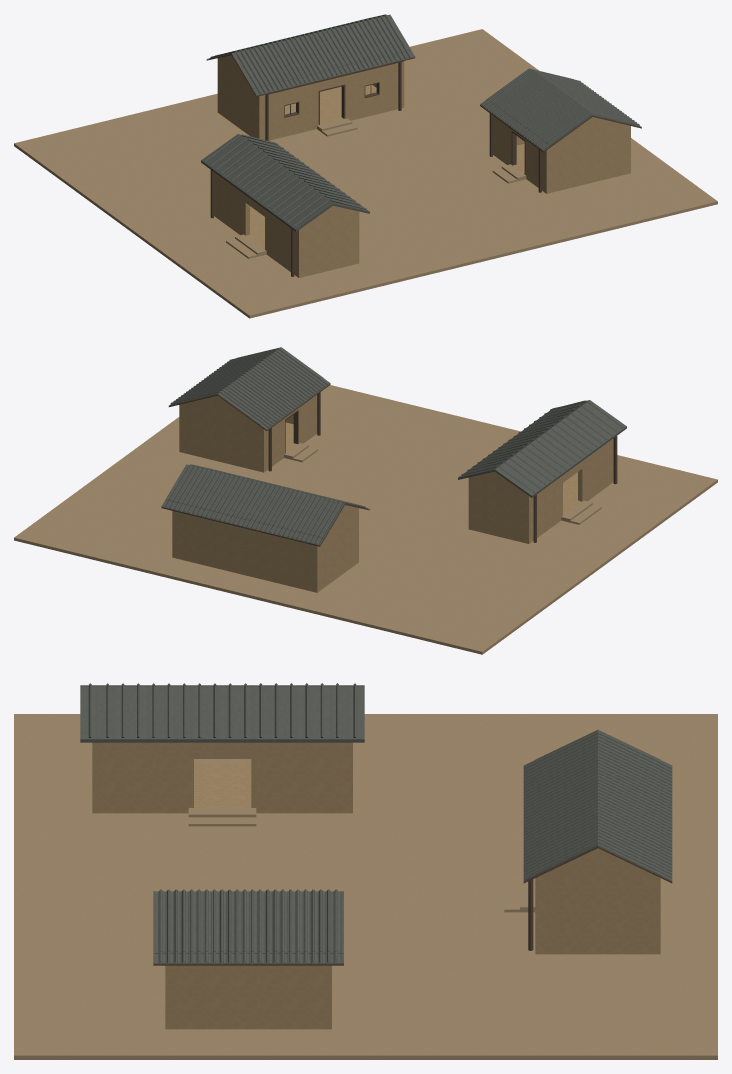
File: z09-civic-B-LOD1.glb
3 renders of one model, top to bottom at view 1: azimuth 30°, elevation 25°; view 2: azimuth 150°, elevation 25°; view 3: azimuth 270°, elevation 25°, orthographic. The views are drawn at different scales.
Visible parts, largest first — view 1: Z09_batched_Z09_NEW_court_and_steps, Z09_batched_LY_P01_earth__PBR, Z09_batched_LY_P01_tile__PBR, Z09_batched_LY_P01_timber__PBR; view 2: Z09_batched_Z09_NEW_court_and_steps, Z09_batched_LY_P01_earth__PBR, Z09_batched_LY_P01_tile__PBR, Z09_batched_LY_P01_timber__PBR; view 3: Z09_batched_Z09_NEW_court_and_steps, Z09_batched_LY_P01_tile__PBR, Z09_batched_LY_P01_earth__PBR, Z09_batched_LY_P01_timber__PBR.
Boxes of the visible parts, x1,y1,x2,y2 form: Z09_batched_Z09_NEW_court_and_steps: (14,29,717,318); Z09_batched_LY_P01_earth__PBR: (214,55,630,277); Z09_batched_LY_P01_tile__PBR: (201,14,641,231); Z09_batched_LY_P01_timber__PBR: (206,53,641,276); Z09_batched_Z09_NEW_court_and_steps: (14,385,717,654); Z09_batched_LY_P01_earth__PBR: (172,395,613,592); Z09_batched_LY_P01_tile__PBR: (161,347,626,545); Z09_batched_LY_P01_timber__PBR: (161,383,617,546); Z09_batched_Z09_NEW_court_and_steps: (14,714,717,1059); Z09_batched_LY_P01_tile__PBR: (80,683,672,964); Z09_batched_LY_P01_earth__PBR: (92,742,660,1029); Z09_batched_LY_P01_timber__PBR: (153,846,672,965).
Bounding box in the file's own units: 31 × 5.07 × 27.
4 materials, 4 textured.
